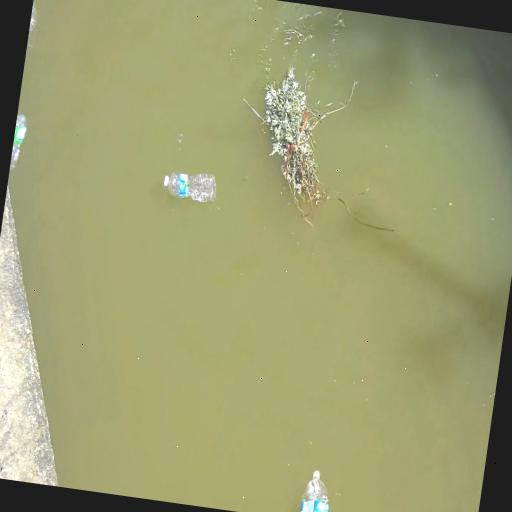plastic: (163, 173, 215, 202), (299, 470, 327, 511), (10, 114, 25, 170)
twig: (264, 67, 357, 217)
